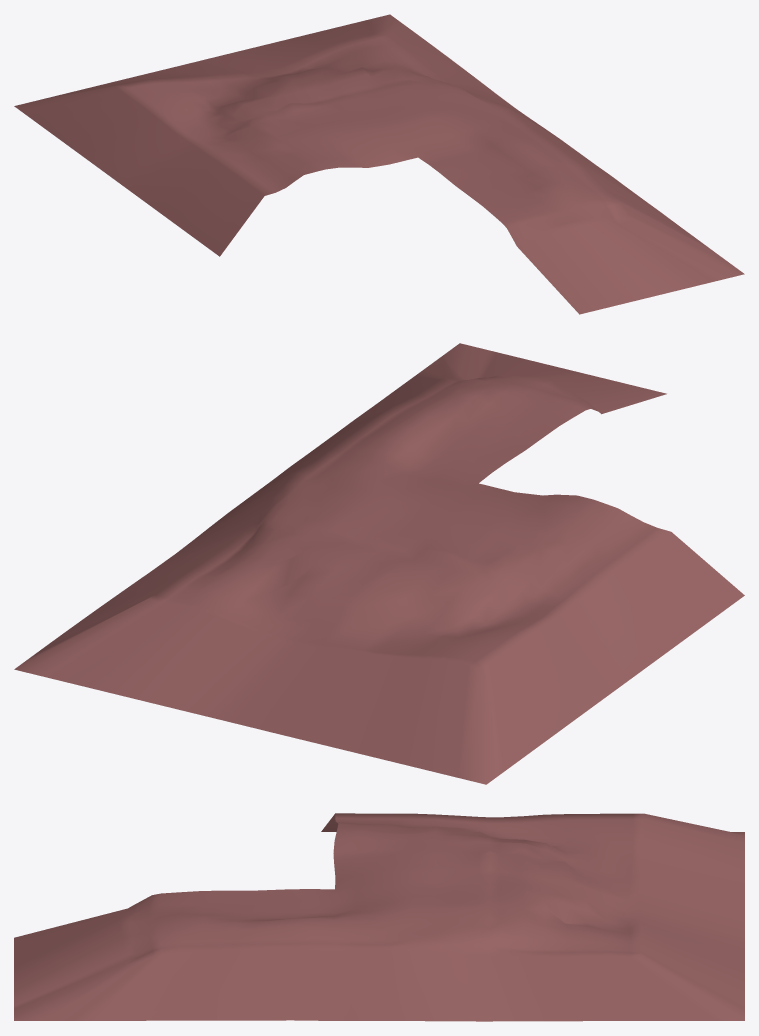
File: Terr_redo.fbx
3 views of the same model, one above another, from view 1: azimuth 30°, elevation 25°; view 2: azimuth 150°, elevation 25°; view 3: azimuth 270°, elevation 25° (orthographic). The views are drawn at different scales.
Parts seen in each view (by area): view 1: ter_terraine_uv_03; view 2: ter_terraine_uv_03; view 3: ter_terraine_uv_03.
Part boxes in pixels (x1,y1,x2,y2): ter_terraine_uv_03: (14,14,744,314); ter_terraine_uv_03: (14,343,744,784); ter_terraine_uv_03: (14,813,744,1021).
Size of the model in its own units: 381 by 54.8 by 623.
